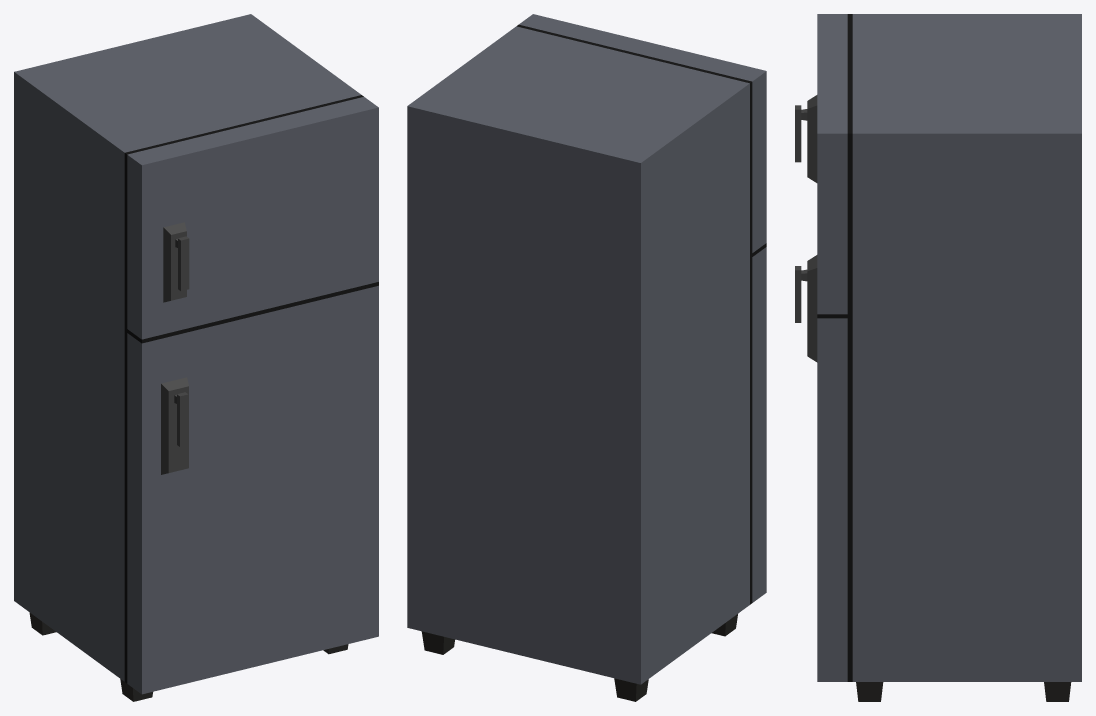
The model's file is Fridge_2.fbx.
The picture shows the model from 3 angles, left to right: view 1: azimuth 30°, elevation 25°; view 2: azimuth 150°, elevation 25°; view 3: azimuth 270°, elevation 25°; orthographic projection. The views are drawn at different scales.
Visible parts, largest first — view 1: polySurface1801; view 2: polySurface1801; view 3: polySurface1801.
Part boxes in pixels (left/top/right/bottom): polySurface1801: left=14, top=14, right=378, bottom=701; polySurface1801: left=407, top=14, right=766, bottom=701; polySurface1801: left=795, top=14, right=1081, bottom=701.
Bounding box in the file's own units: 1.5 × 3.35 × 1.52.
Materials: 1 (1 with a texture image).
